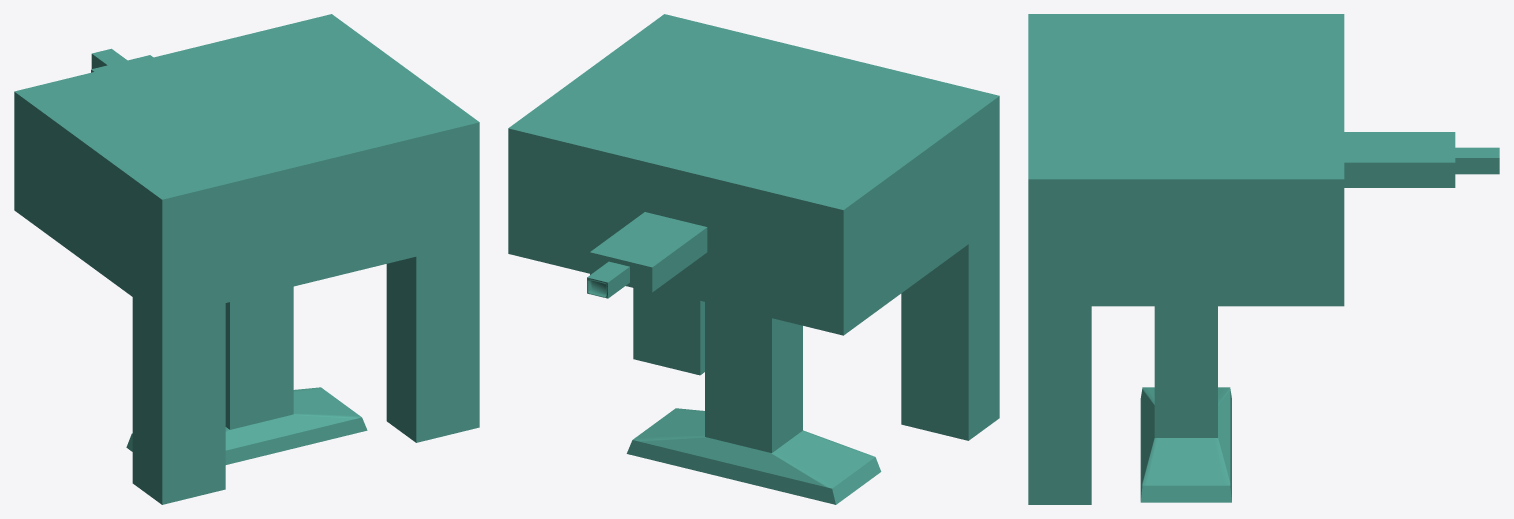
File: Envy_shootingGun.fbx
3 renders of one model, left to right at view 1: azimuth 30°, elevation 25°; view 2: azimuth 150°, elevation 25°; view 3: azimuth 270°, elevation 25°, orthographic. The views are drawn at different scales.
Parts seen in each view (by area): view 1: Gun2; view 2: Gun2; view 3: Gun2.
Part boxes in pixels (x1,y1,x2,y2): Gun2: (14,14,479,504); Gun2: (508,14,999,504); Gun2: (1028,14,1499,504).
Size of the model in its own units: 0.5351 by 0.5348 by 0.6441.
